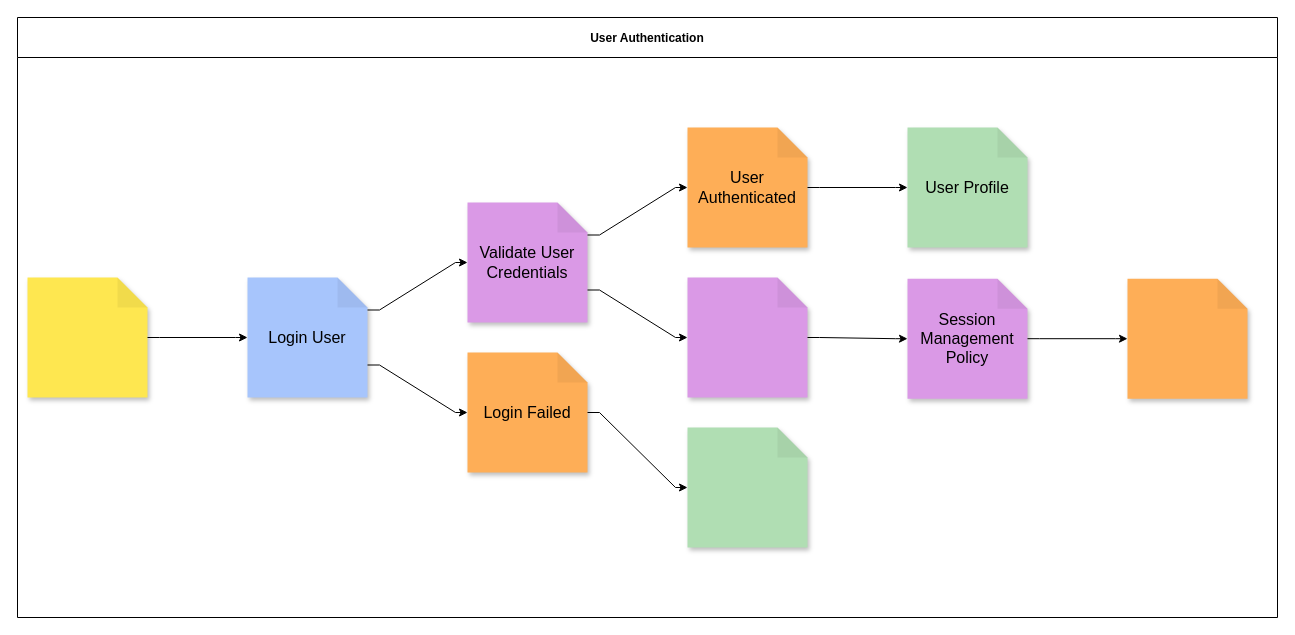
This 1295x635 diagram has some shape labels left out. The centre of each missing label's shape, as x and y in pixels:
"Check User Status" belongs at (x=748, y=338).
"Session Established" belongs at (x=1188, y=339).
"Session Status" belongs at (x=748, y=488).
"User" belongs at (x=88, y=338).
